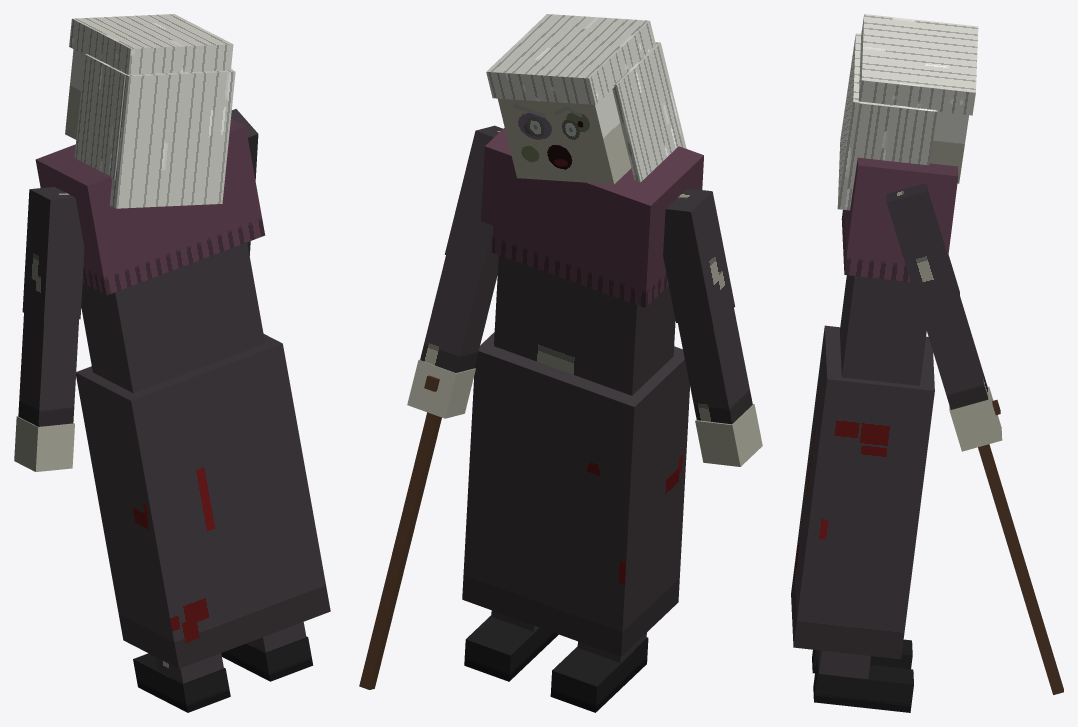
File: revenant_crone.glb
3 renders of one model, left to right at view 1: azimuth 30°, elevation 25°; view 2: azimuth 150°, elevation 25°; view 3: azimuth 270°, elevation 25°, orthographic. The views are drawn at different scales.
Visible parts, largest first — view 1: block_skirt, block_torso, block_shawl, block_hair-long, block_hair-cap, block_upper_arm.L, block_forearm.L, block_hair-lock, block_foot.L, block_hand.L, block_foot.R, block_head (+3 smaller); view 2: block_skirt, block_shawl, block_torso, block_hair-cap, block_head, block_upper_arm.L, block_forearm.R, block_forearm.L, block_hair-lock, block_cane, block_foot.L, block_upper_arm.R (+3 smaller); view 3: block_skirt, block_hair-cap, block_shawl, block_torso, block_upper_arm.R, block_hair-lock, block_forearm.R, block_foot.R, block_cane, block_hair-long, block_hand.R, block_head (+2 smaller).
Boxes of the visible parts, bbox=[...] form: block_skirt: bbox=[76, 334, 330, 668]; block_torso: bbox=[81, 242, 264, 393]; block_shawl: bbox=[35, 119, 265, 295]; block_hair-long: bbox=[109, 68, 235, 208]; block_hair-cap: bbox=[69, 14, 233, 74]; block_upper_arm.L: bbox=[22, 186, 84, 322]; block_forearm.L: bbox=[18, 313, 78, 426]; block_hair-lock: bbox=[74, 54, 125, 179]; block_foot.L: bbox=[133, 653, 230, 712]; block_hand.L: bbox=[14, 416, 74, 471]; block_foot.R: bbox=[221, 636, 313, 681]; block_head: bbox=[65, 49, 84, 139]; block_skirt: bbox=[462, 332, 689, 656]; block_shawl: bbox=[481, 128, 703, 307]; block_torso: bbox=[494, 255, 675, 395]; block_hair-cap: bbox=[486, 14, 655, 104]; block_head: bbox=[498, 89, 631, 184]; block_upper_arm.L: bbox=[663, 188, 735, 327]; block_forearm.R: bbox=[420, 255, 498, 372]; block_forearm.L: bbox=[678, 308, 752, 424]; block_hair-lock: bbox=[612, 45, 682, 182]; block_cane: bbox=[359, 412, 441, 689]; block_foot.L: bbox=[550, 637, 648, 712]; block_upper_arm.R: bbox=[444, 125, 502, 268]; block_skirt: bbox=[791, 325, 934, 659]; block_hair-cap: bbox=[858, 14, 978, 115]; block_shawl: bbox=[841, 157, 958, 281]; block_torso: bbox=[839, 275, 926, 385]; block_upper_arm.R: bbox=[886, 183, 960, 314]; block_hair-lock: bbox=[847, 102, 937, 188]; block_forearm.R: bbox=[922, 296, 988, 409]; block_foot.R: bbox=[813, 659, 913, 712]; block_cane: bbox=[978, 444, 1063, 694]; block_hair-long: bbox=[837, 33, 883, 210]; block_hand.R: bbox=[949, 387, 1002, 451]; block_head: bbox=[930, 112, 968, 183].
Bounding box in the file's own units: 0.8411 × 1.89 × 0.7299.
Materials: 1 (1 with a texture image).
